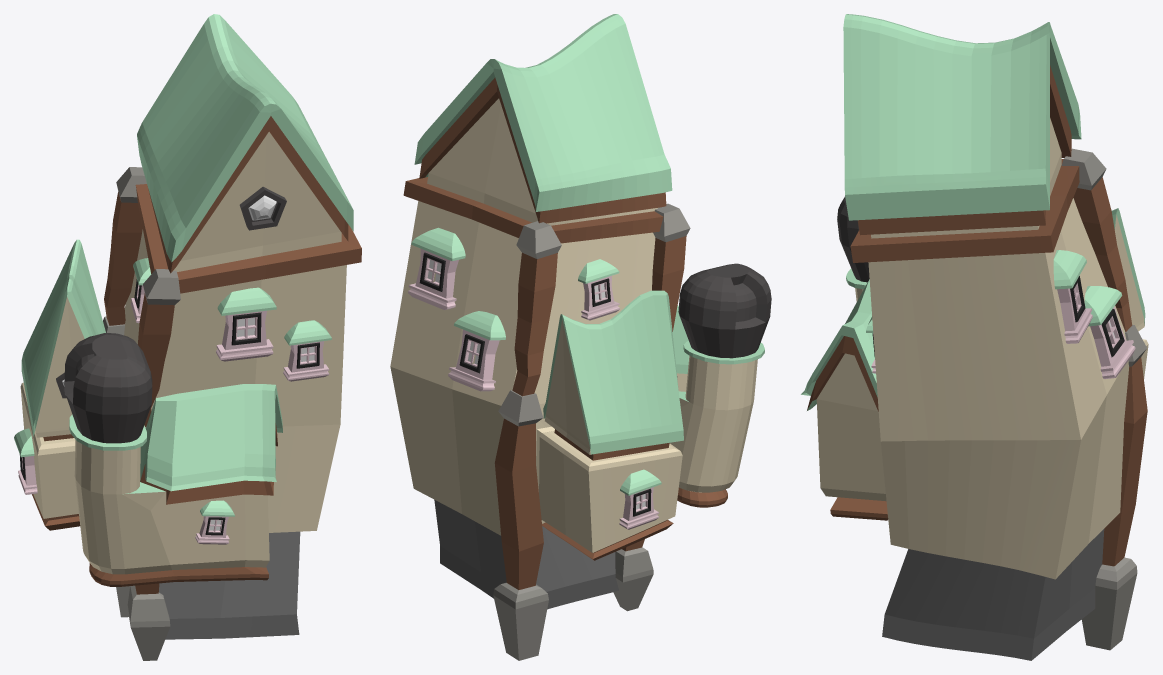
File: House6.fbx
3 renders of one model, left to right at view 1: azimuth 30°, elevation 25°; view 2: azimuth 150°, elevation 25°; view 3: azimuth 270°, elevation 25°, orthographic. The views are drawn at different scales.
Visible parts, largest first — view 1: House6, Cannon Head; view 2: House6, Cannon Head; view 3: House6, Cannon Head.
Part boxes in pixels (x1,y1,x2,y2): House6: (14,14,361,660); Cannon Head: (64,333,152,443); House6: (390,14,764,660); Cannon Head: (678,263,771,358); House6: (801,14,1148,660); Cannon Head: (837,197,869,282).
Size of the model in its own units: 956 by 1765 by 857.
